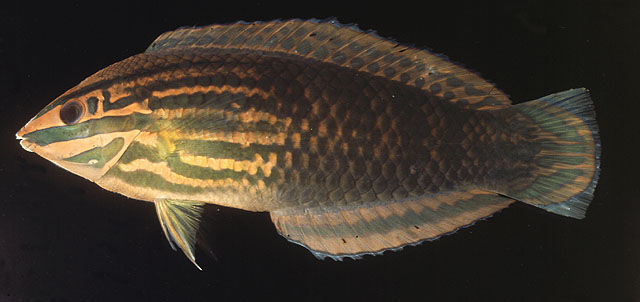fish: (15, 18, 603, 271)
